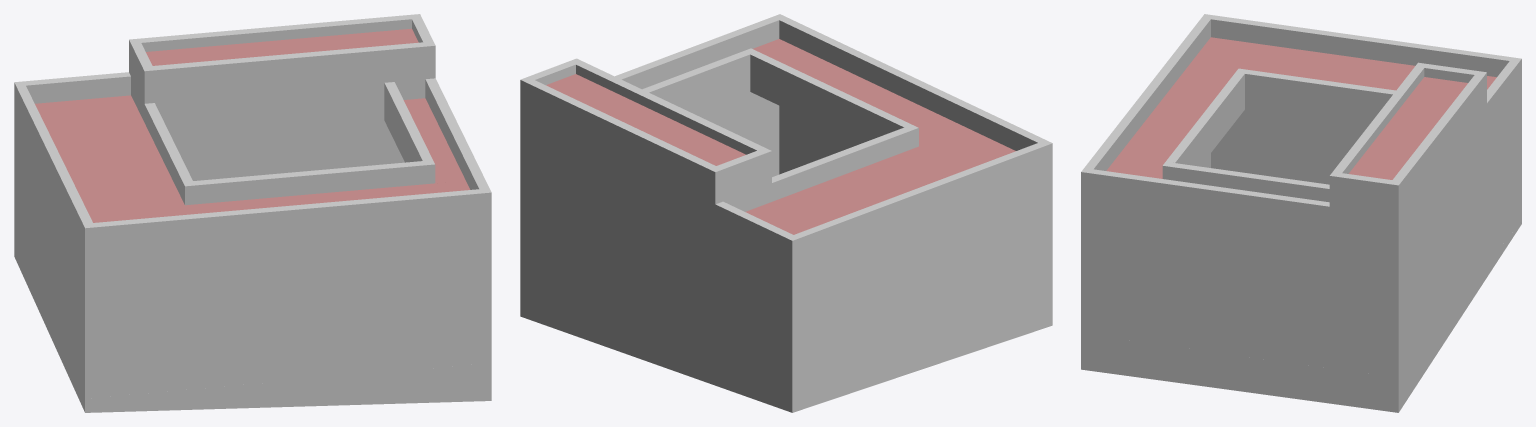
Rendered from LOD_Block_0_17.glb.
3 renders of one model, left to right at view 1: azimuth 30°, elevation 25°; view 2: azimuth 150°, elevation 25°; view 3: azimuth 270°, elevation 25°, orthographic. The views are drawn at different scales.
Parts seen in each view (by area): view 1: mesh_CityEngineMaterial_259; view 2: mesh_CityEngineMaterial_259; view 3: mesh_CityEngineMaterial_259.
Boxes of the visible parts, <box> form: mesh_CityEngineMaterial_259: <box>14,14,491,412</box>; mesh_CityEngineMaterial_259: <box>520,14,1052,412</box>; mesh_CityEngineMaterial_259: <box>1081,14,1521,412</box>.
Size of the model in its own units: 24.16 by 12.72 by 22.24.
